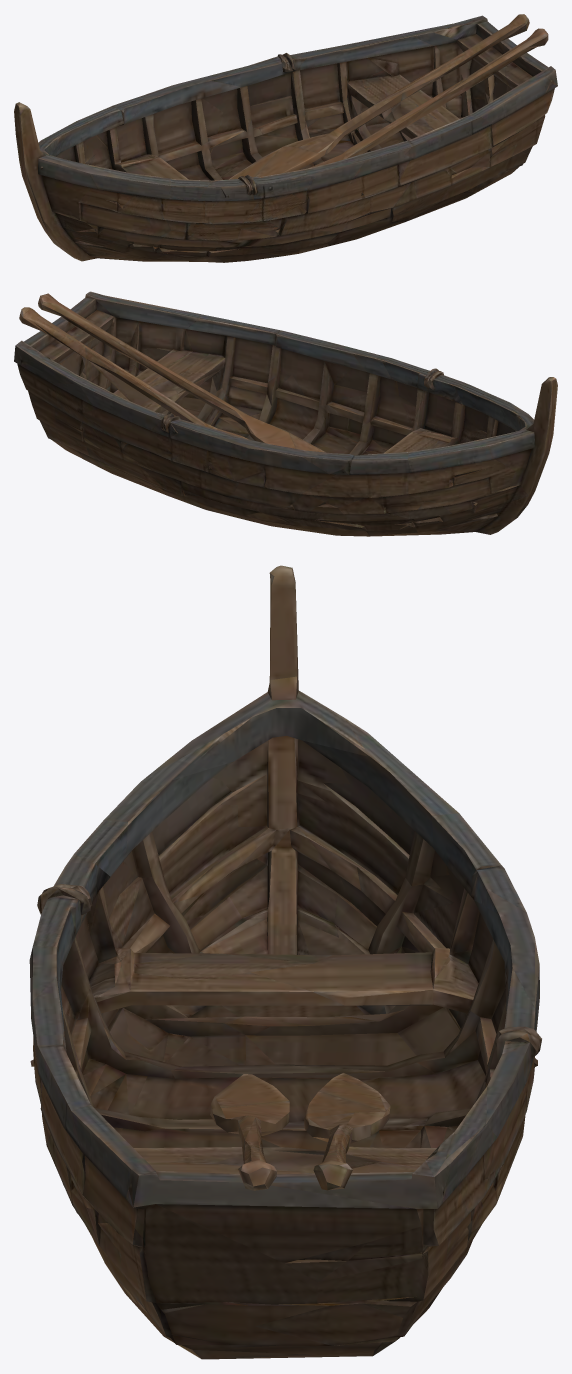
File: rowboat.glb
The picture shows the model from 3 angles, top to bottom: view 1: azimuth 30°, elevation 25°; view 2: azimuth 150°, elevation 25°; view 3: azimuth 270°, elevation 25°; orthographic projection. The views are drawn at different scales.
Parts seen in each view (by area): view 1: rowboat; view 2: rowboat; view 3: rowboat.
Boxes of the visible parts, x1,y1,x2,y2 form: rowboat: [14, 14, 557, 262]; rowboat: [14, 291, 557, 536]; rowboat: [29, 565, 541, 1359].
Size of the model in its own units: 4.2 by 1.31 by 1.79.
Materials: 1 (1 with a texture image).
